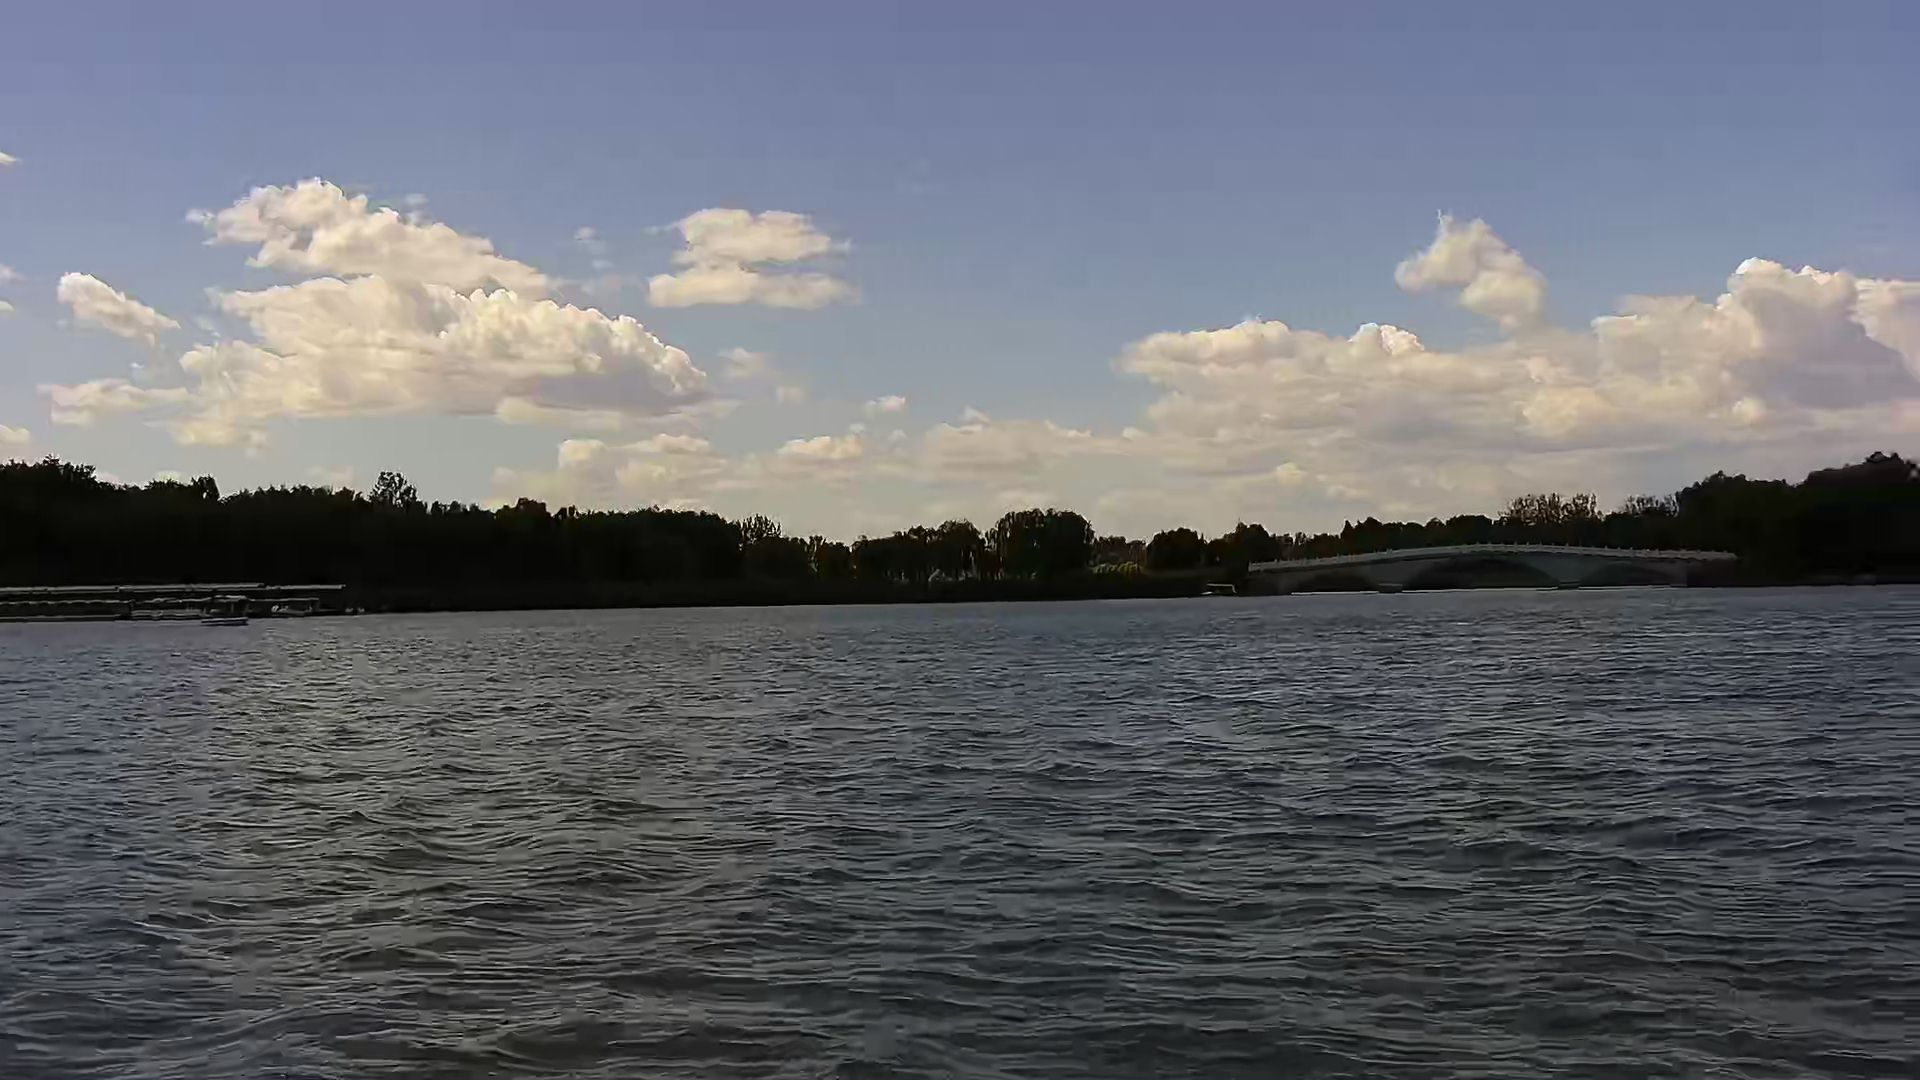boat: (200, 593, 253, 629)
bridge: (1222, 537, 1743, 593)
harbor: (1, 579, 342, 622)
